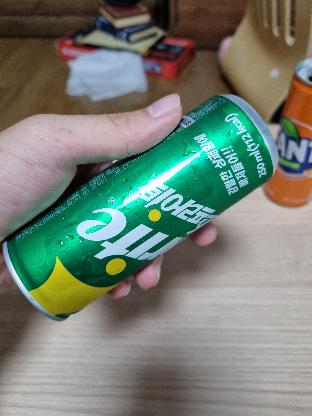Can: (18, 107, 270, 320)
